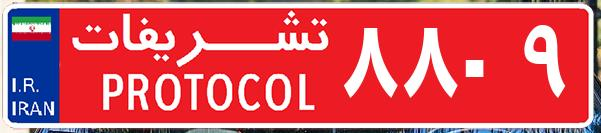0: (460, 20, 520, 115)
8: (340, 20, 400, 115), (400, 20, 460, 115)
9: (520, 20, 580, 115)
تشریفات: (60, 8, 340, 125)
